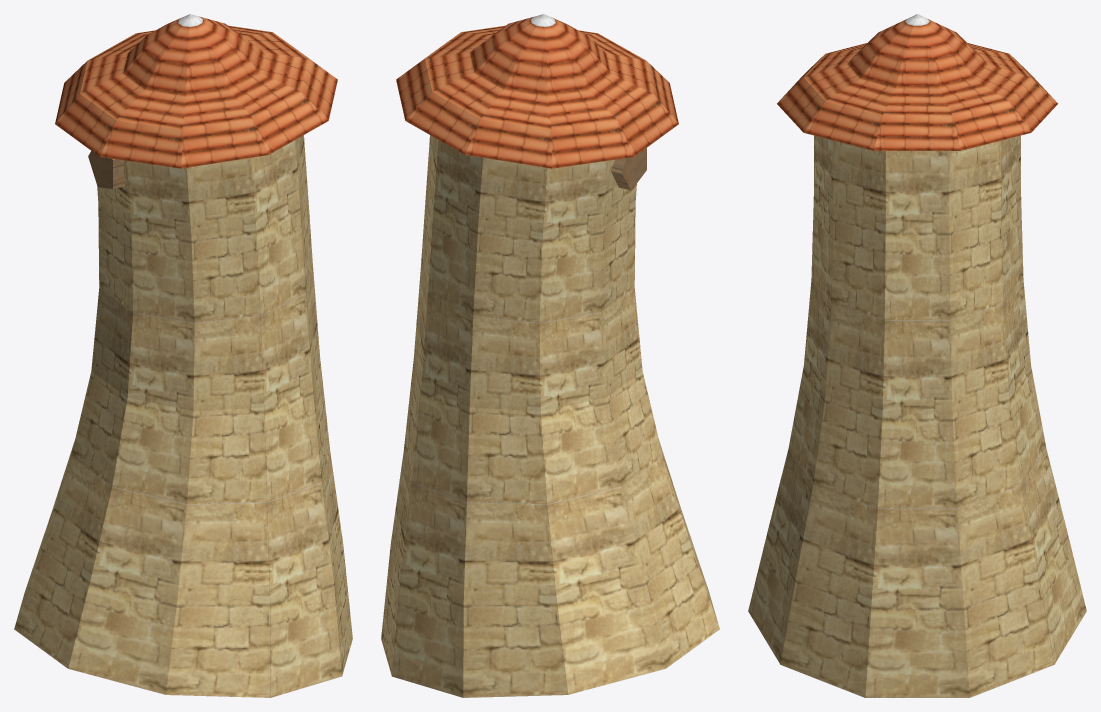
Rendered from Windmill_01_Static.obj.
3 views of the same model, side by side, from view 1: azimuth 30°, elevation 25°; view 2: azimuth 150°, elevation 25°; view 3: azimuth 270°, elevation 25° (orthographic). The views are drawn at different scales.
Bounding box in the file's own units: 9.55 × 20.45 × 10.13.
1 material, 1 textured.
